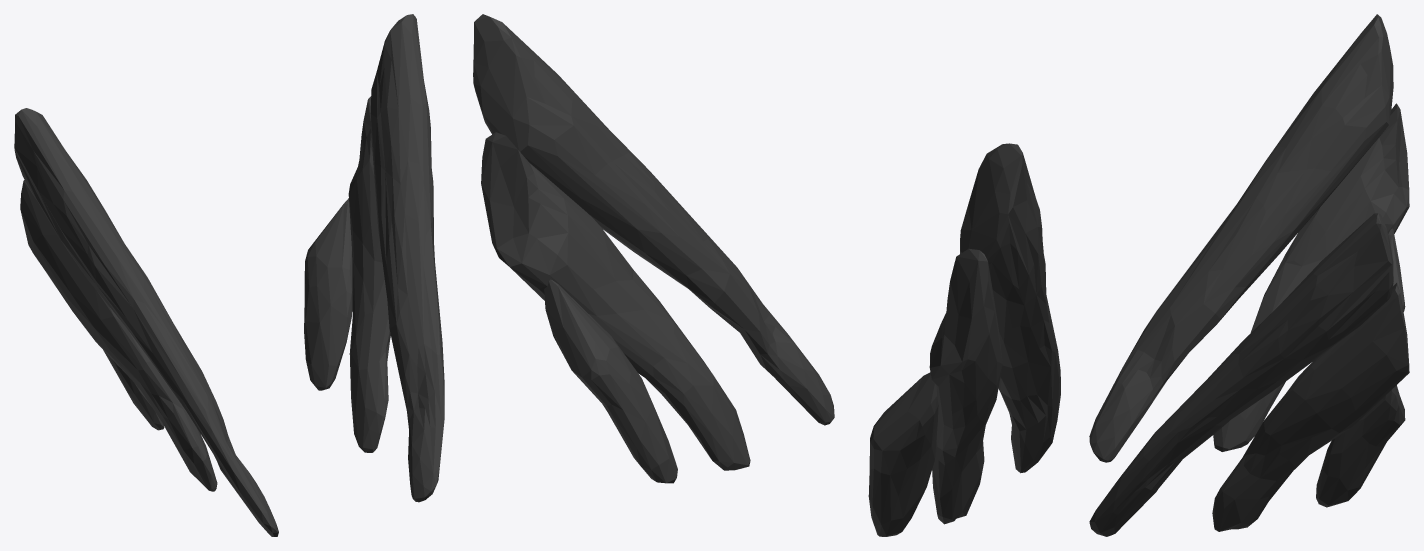
The model's file is m_scalenus_ventralis.glb.
The picture shows the model from 3 angles, left to right: view 1: azimuth 30°, elevation 25°; view 2: azimuth 150°, elevation 25°; view 3: azimuth 270°, elevation 25°; orthographic projection. The views are drawn at different scales.
Visible parts, largest first — view 1: m_scalenus_ventralis; view 2: m_scalenus_ventralis; view 3: m_scalenus_ventralis.
Part boxes in pixels (left/top/right/bottom): m_scalenus_ventralis: left=14, top=14, right=444, bottom=536; m_scalenus_ventralis: left=473, top=14, right=1060, bottom=536; m_scalenus_ventralis: left=1089, top=14, right=1409, bottom=536.
Bounding box in the file's own units: 0.0021 × 0.00182 × 0.00137.
1 material, 1 textured.
